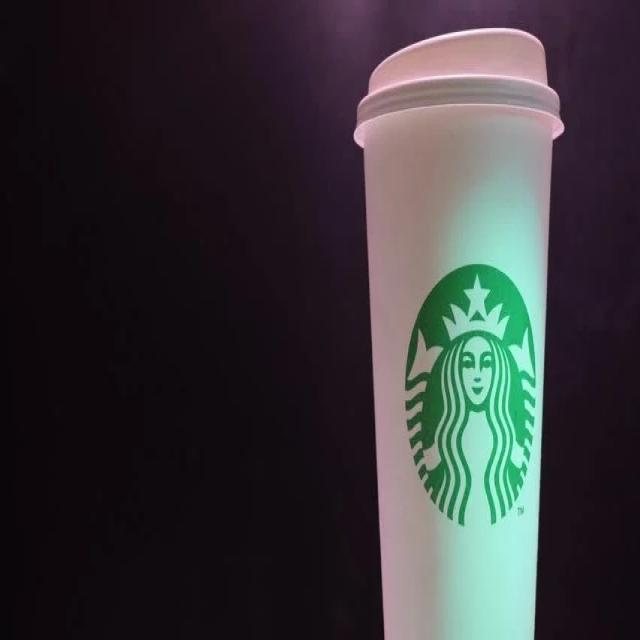starbucks: (404, 263, 535, 516)
